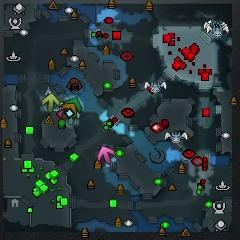x1: (98, 147, 114, 164)
x2: (42, 93, 61, 113)
x3: (67, 112, 81, 124)
x4: (63, 95, 84, 111)
x5: (60, 102, 77, 121)
